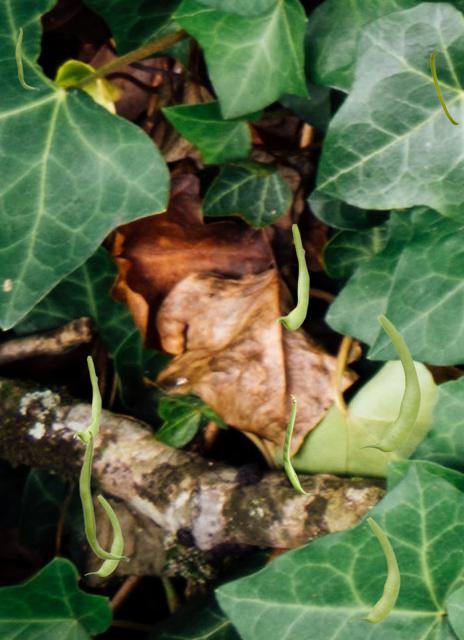french_bean: (355, 313, 420, 451), (78, 429, 129, 561), (349, 516, 399, 622), (275, 223, 308, 329), (84, 494, 122, 575), (283, 394, 313, 494), (73, 355, 100, 442), (430, 50, 458, 124), (15, 27, 38, 89)
